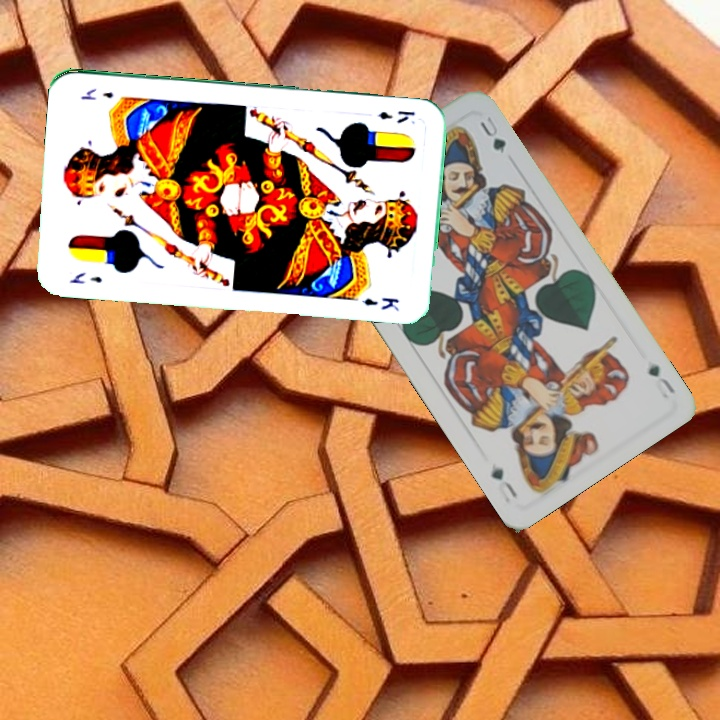EK: (374, 107, 418, 126), (65, 268, 105, 286)
GU: (644, 359, 678, 400)
